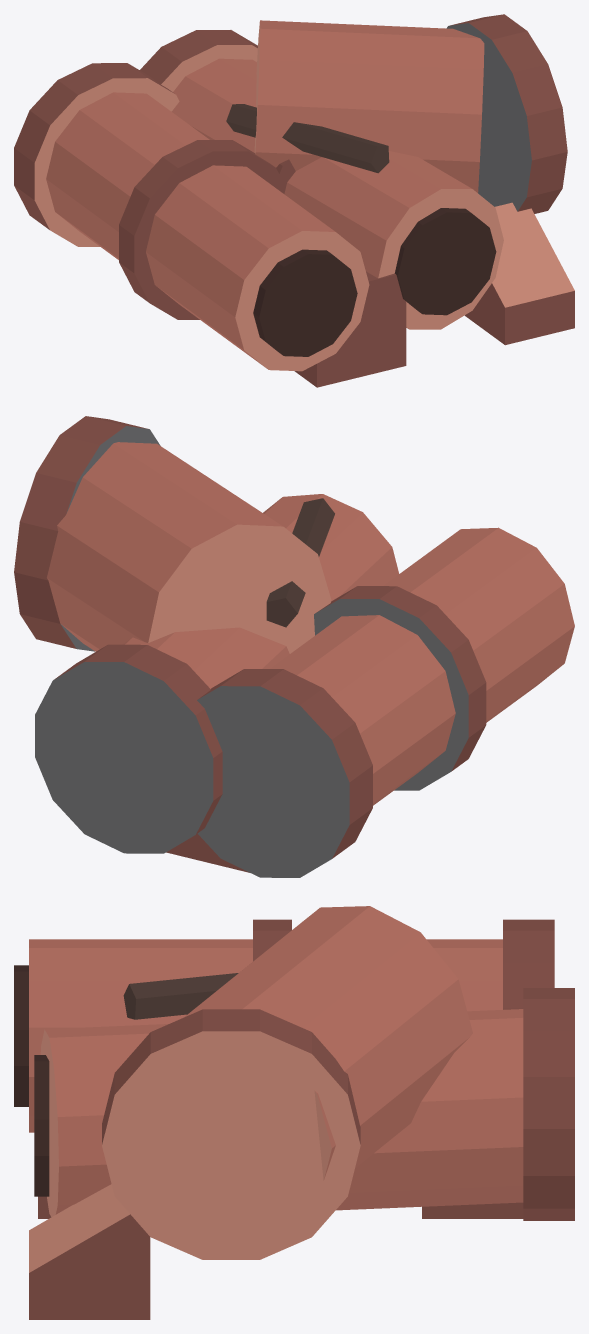
File: Building_AncientPipes__C.glb
The picture shows the model from 3 angles, top to bottom: view 1: azimuth 30°, elevation 25°; view 2: azimuth 150°, elevation 25°; view 3: azimuth 270°, elevation 25°; orthographic projection. The views are drawn at different scales.
Parts seen in each view (by area): view 1: AncientPipes__C; view 2: AncientPipes__C; view 3: AncientPipes__C.
Part boxes in pixels (left/top/right/bottom): AncientPipes__C: left=14, top=14, right=574, bottom=387; AncientPipes__C: left=14, top=416, right=574, bottom=877; AncientPipes__C: left=14, top=906, right=574, bottom=1319.
Size of the model in its own units: 0.8443 by 0.5198 by 0.8672.
Materials: 1 (1 with a texture image).
